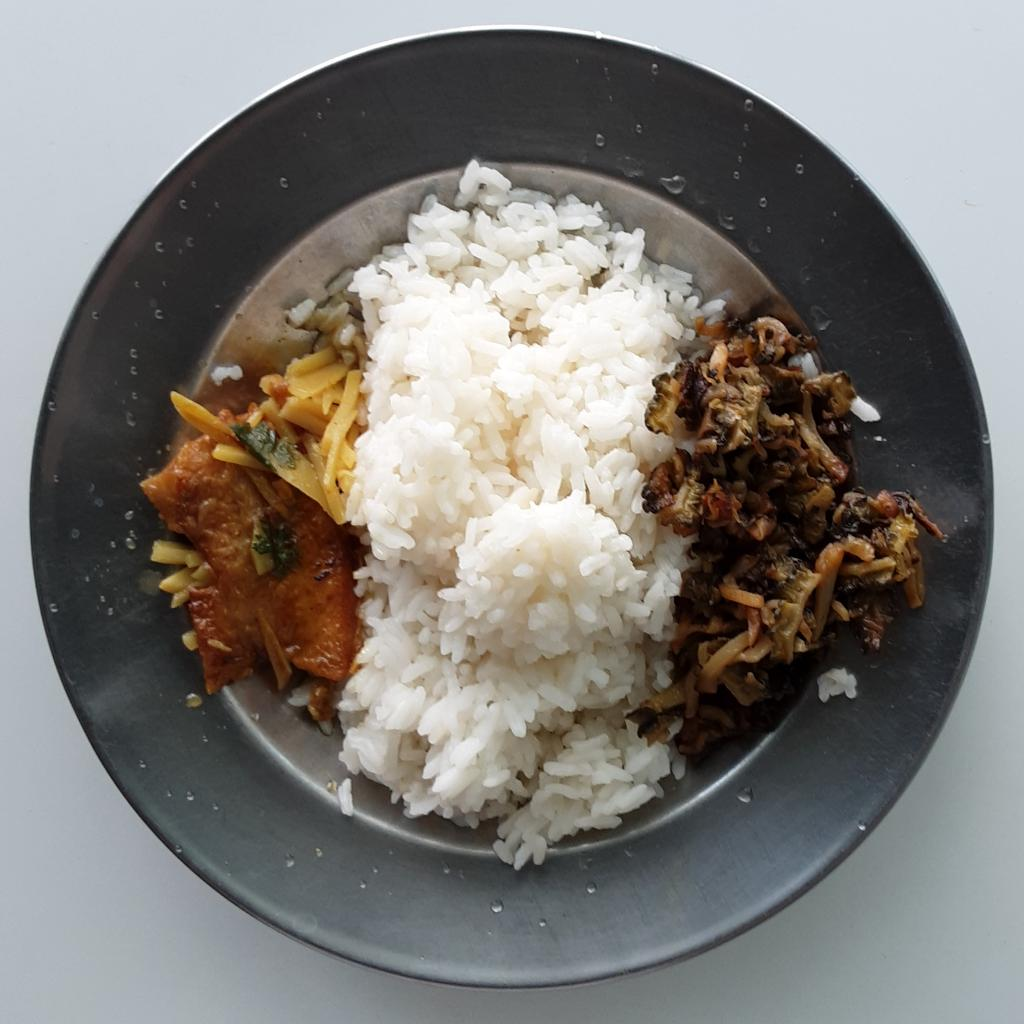fish: (139, 435, 359, 740)
korola-vaji: (623, 315, 948, 755)
potato: (164, 348, 366, 521)
rice: (287, 156, 731, 878)
